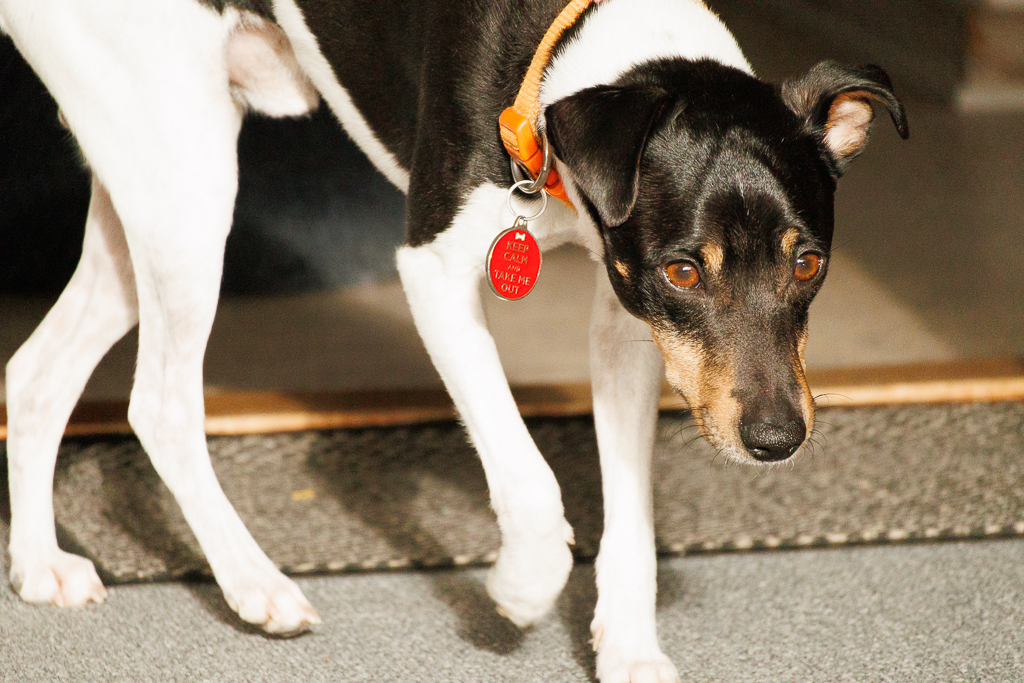Dog: (0, 0, 918, 683)
